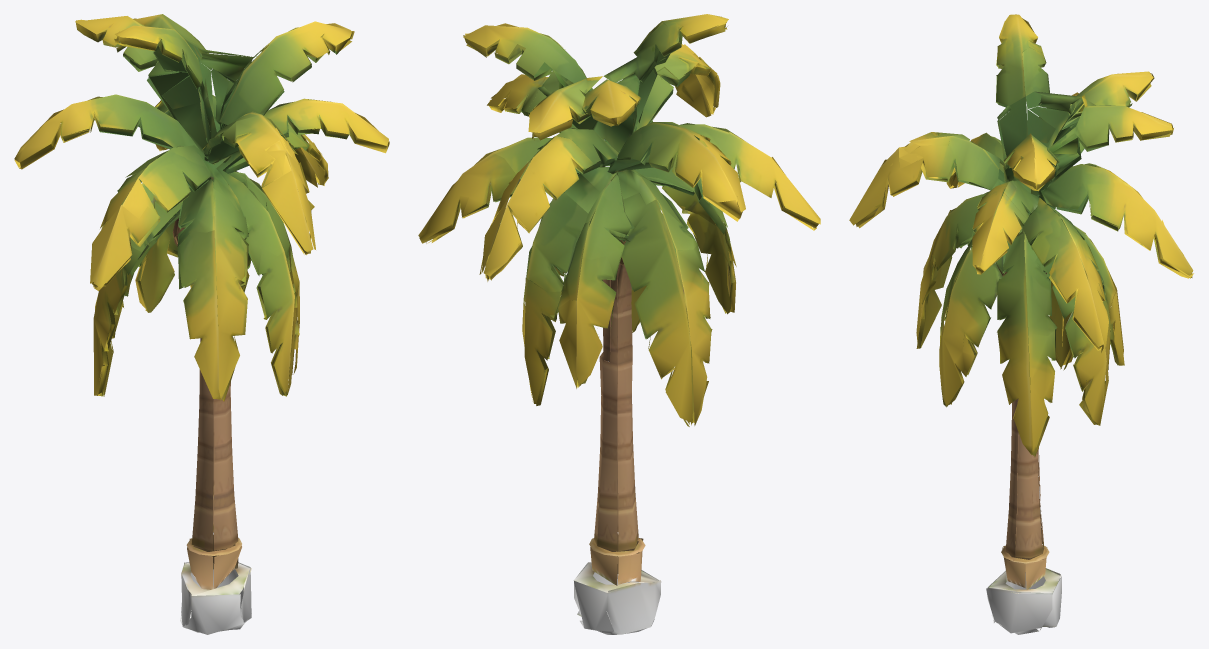
The model's file is PalmaP.glb.
The picture shows the model from 3 angles, left to right: view 1: azimuth 30°, elevation 25°; view 2: azimuth 150°, elevation 25°; view 3: azimuth 270°, elevation 25°; orthographic projection. The views are drawn at different scales.
Visible parts, largest first — view 1: mesh_rep_0_ori_repair.001; view 2: mesh_rep_0_ori_repair.001; view 3: mesh_rep_0_ori_repair.001.
Boxes of the visible parts, bbox=[...] form: mesh_rep_0_ori_repair.001: bbox=[14, 14, 389, 634]; mesh_rep_0_ori_repair.001: bbox=[418, 14, 820, 634]; mesh_rep_0_ori_repair.001: bbox=[849, 14, 1193, 634].
Bounding box in the file's own units: 1.5 × 2.79 × 1.55.
1 material, 1 textured.
